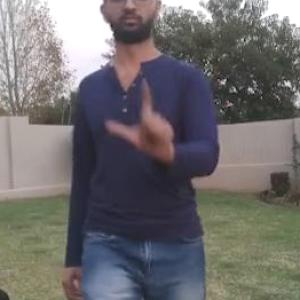land_hand: (102, 77, 183, 161)
